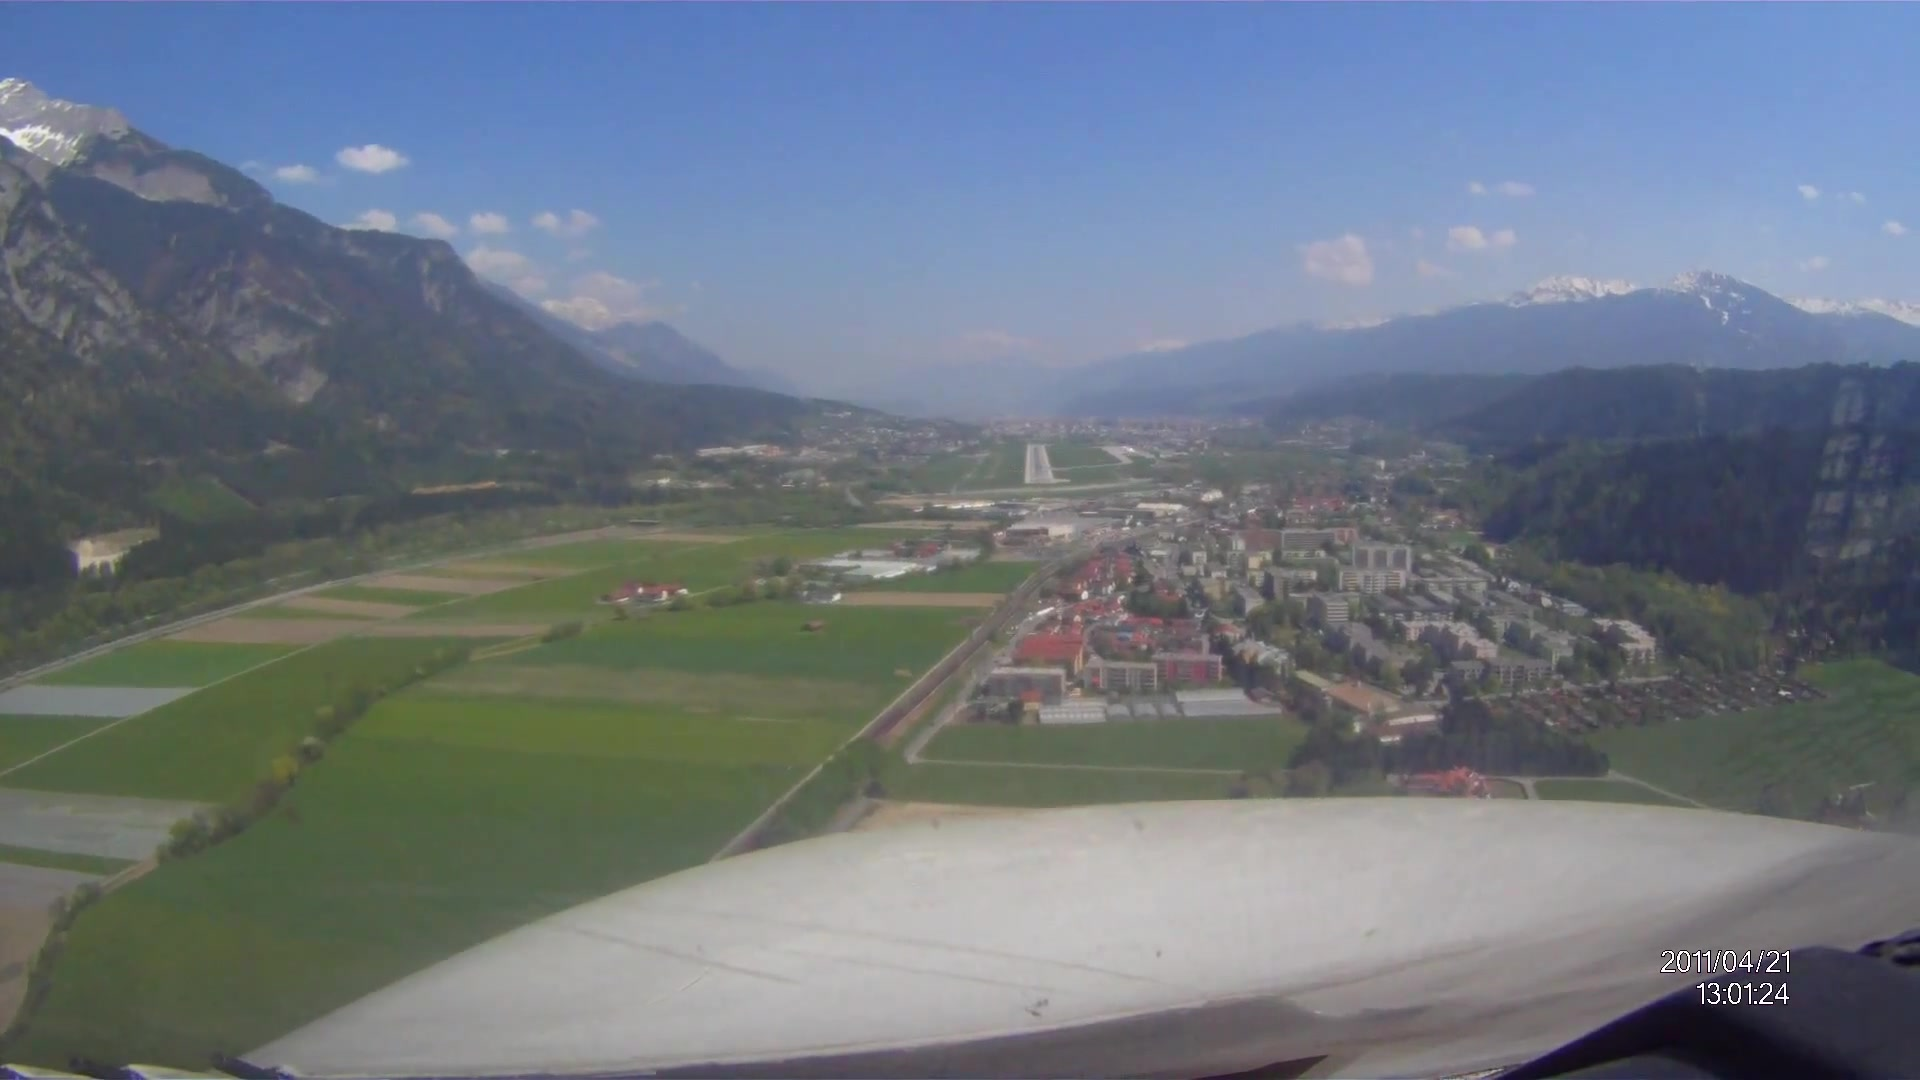runway: (1021, 440, 1056, 487)
